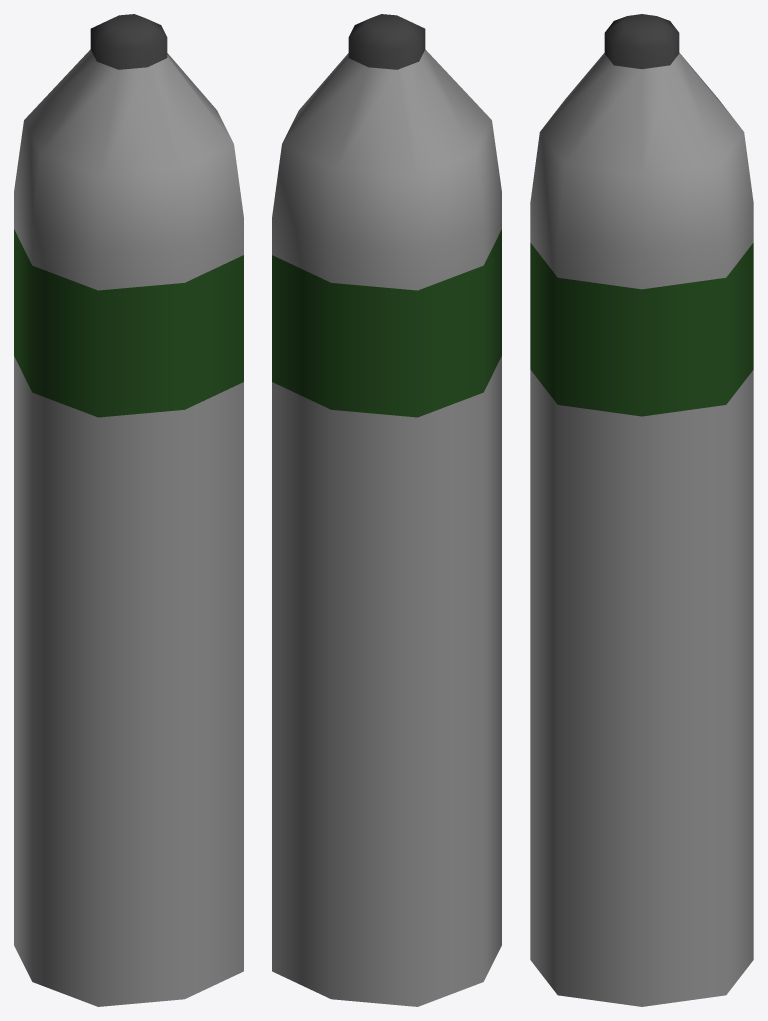
The model's file is O2Tank.fbx.
3 renders of one model, left to right at view 1: azimuth 30°, elevation 25°; view 2: azimuth 150°, elevation 25°; view 3: azimuth 270°, elevation 25°, orthographic.
Parts seen in each view (by area): view 1: Air Tank; view 2: Air Tank; view 3: Air Tank.
Part boxes in pixels (<box>): Air Tank: <box>14,14,243,1006</box>; Air Tank: <box>272,14,501,1006</box>; Air Tank: <box>530,14,753,1006</box>.
Bounding box in the file's own units: 103 × 474 × 103.
